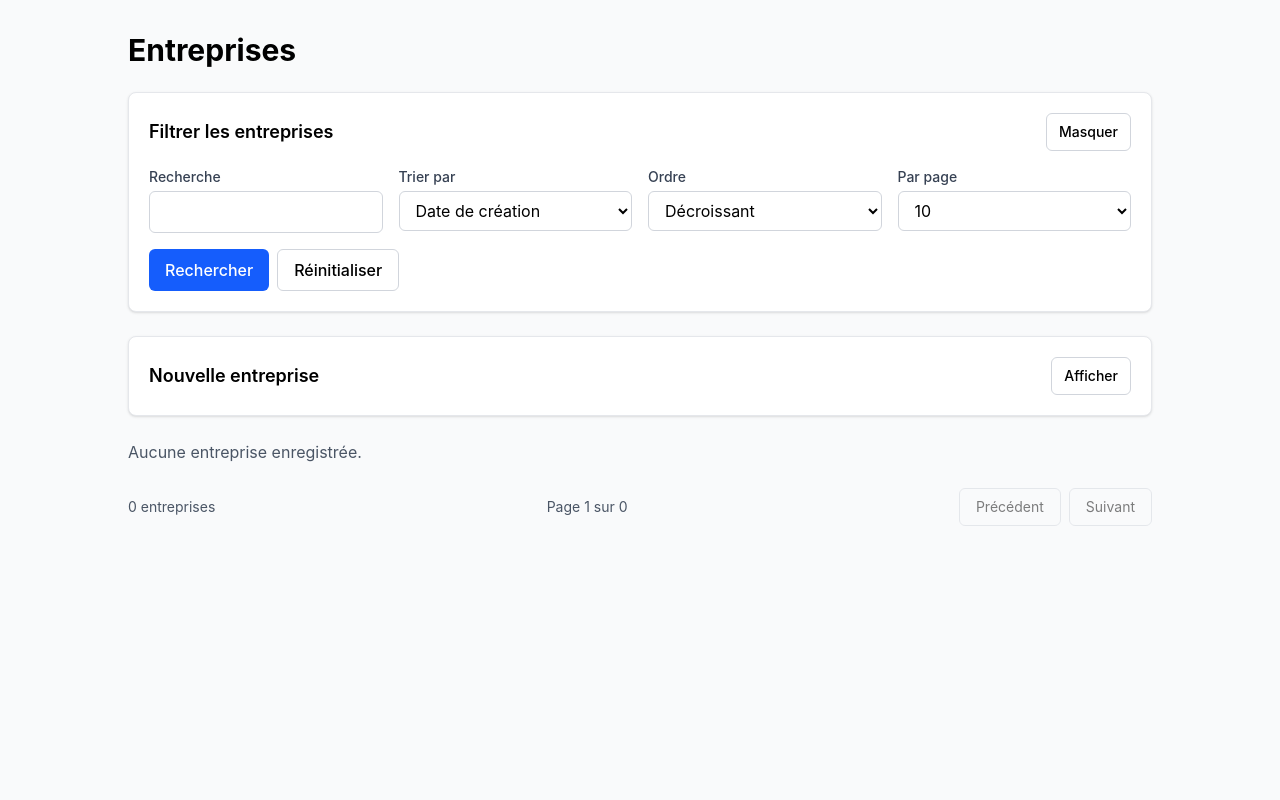
Test case: CompaniesPage › shows a generic message when company creation fails
Step 1. Click the button with aria-label "Afficher Nouvelle entreprise" → (1091, 376), box [1051,357,1131,395]
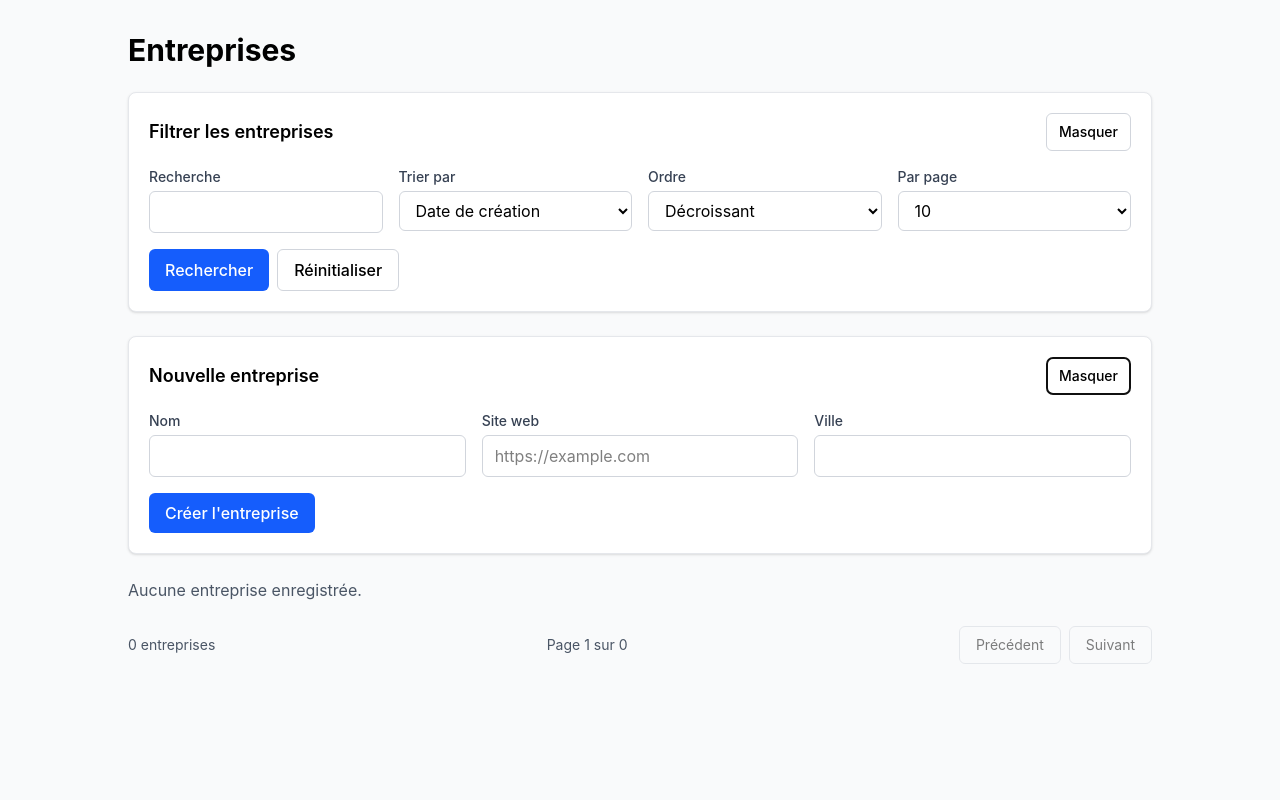
Step 2. Type "Acme" into the field labelled "Nom" → (307, 456), box [149,435,466,477]
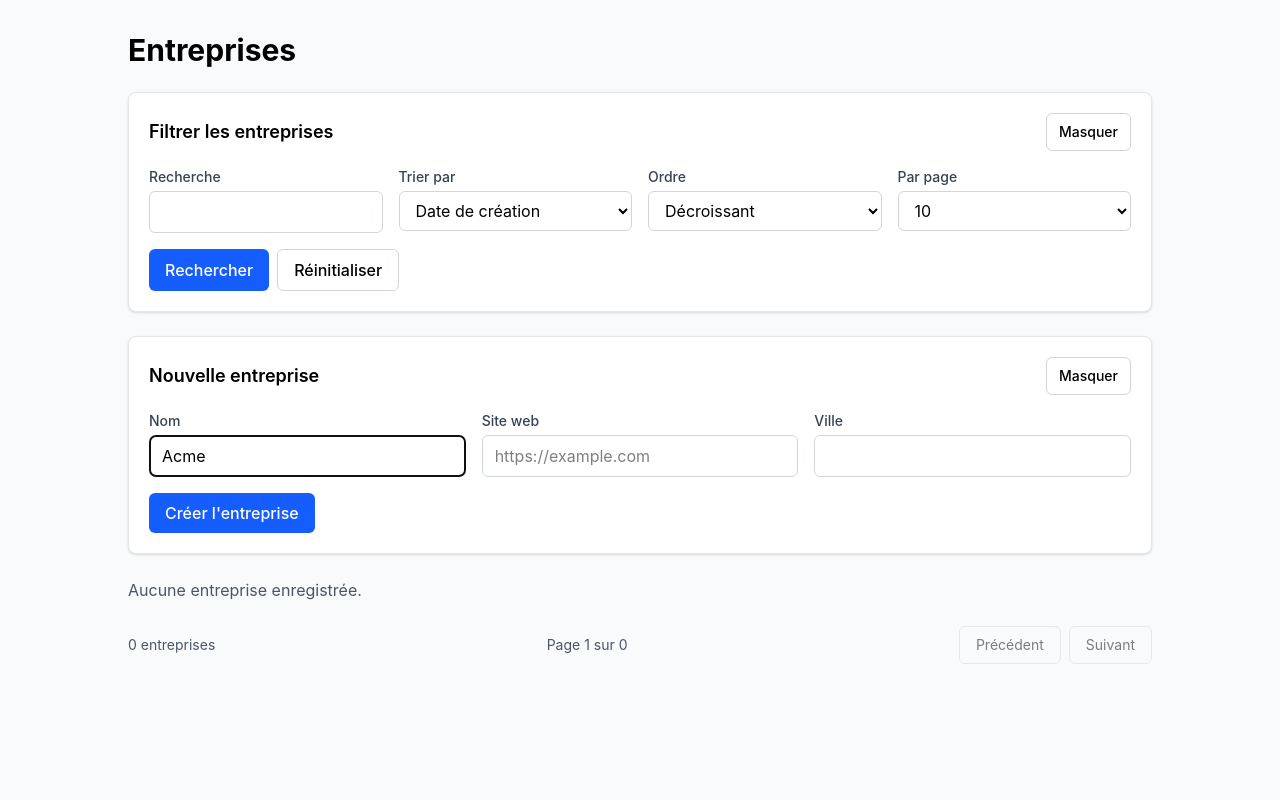
Step 3. Click the button "Créer l'entreprise" → (232, 513), box [149,493,315,533]
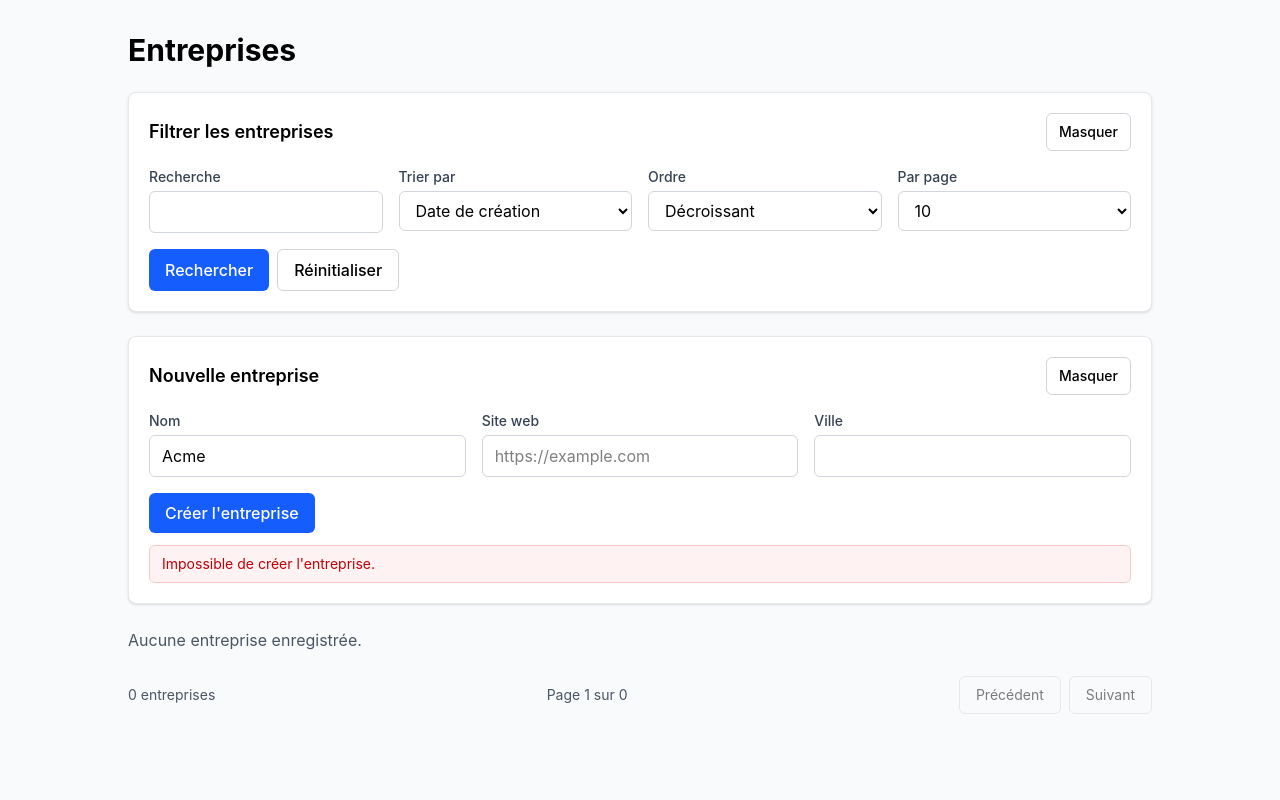
Now the message reads "Impossible de créer l'entreprise.", box [162,555,375,572]
